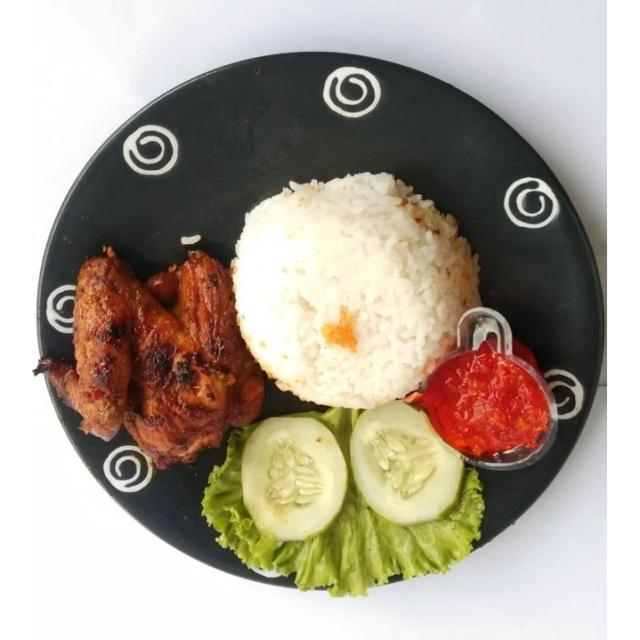ayam_goreng: (60, 243, 234, 458)
nasi_putih: (234, 161, 471, 416)
